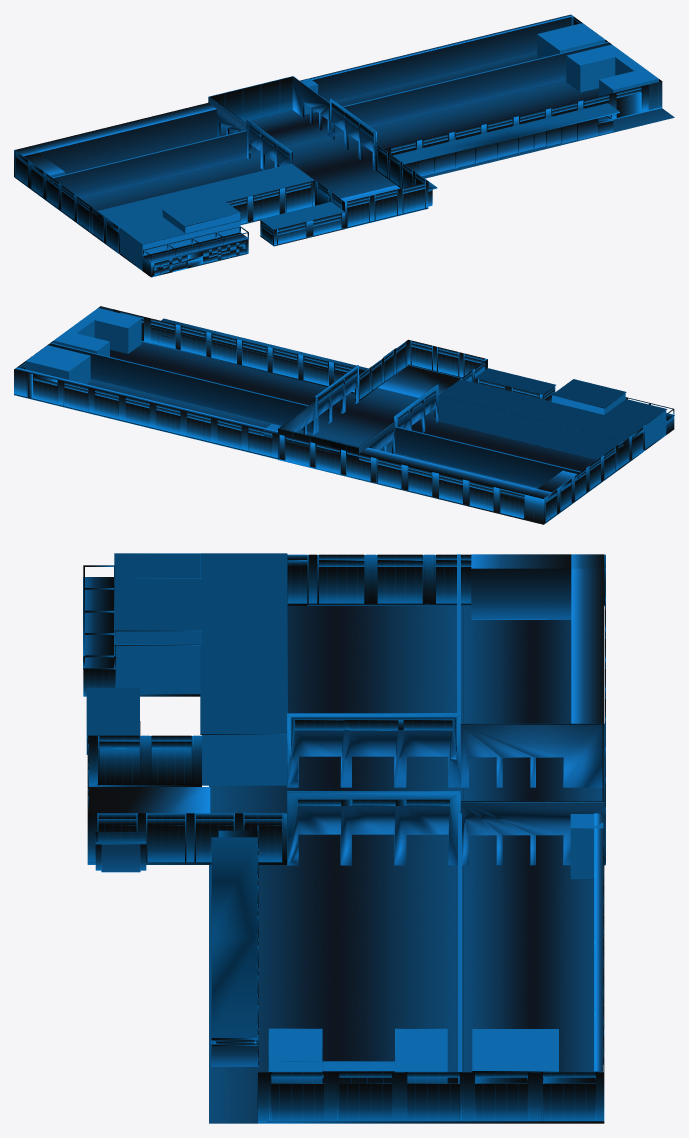
The model's file is wireframe.glb.
3 renders of one model, top to bottom at view 1: azimuth 30°, elevation 25°; view 2: azimuth 150°, elevation 25°; view 3: azimuth 270°, elevation 25°, orthographic. The views are drawn at different scales.
Visible parts, largest first — view 1: model, wireframe; view 2: model, wireframe; view 3: model, wireframe.
Part boxes in pixels (<box>): model: <box>14,14,674,277</box>; wireframe: <box>14,15,674,277</box>; model: <box>14,306,674,524</box>; wireframe: <box>15,309,674,524</box>; model: <box>83,553,605,1123</box>; wireframe: <box>83,553,605,1123</box>.
Size of the model in its own units: 310 by 20.53 by 132.
Materials: 1 (1 with a texture image).
